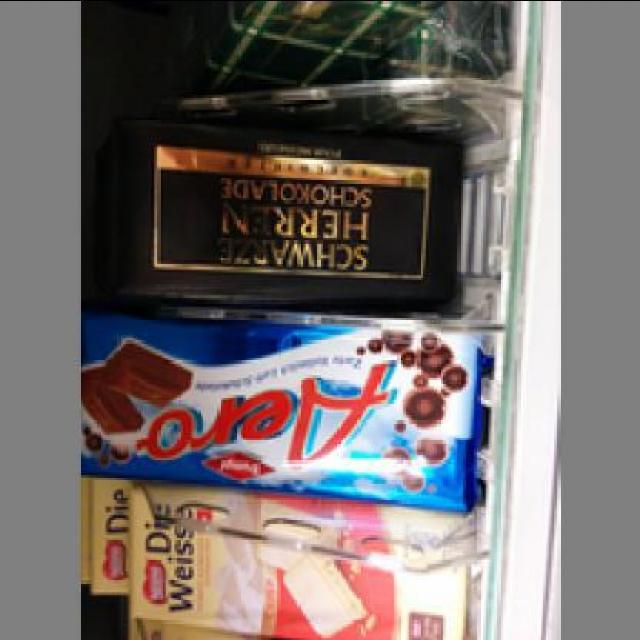Chocolate bar: (83, 323, 480, 503), (114, 120, 457, 303), (128, 488, 472, 638)
